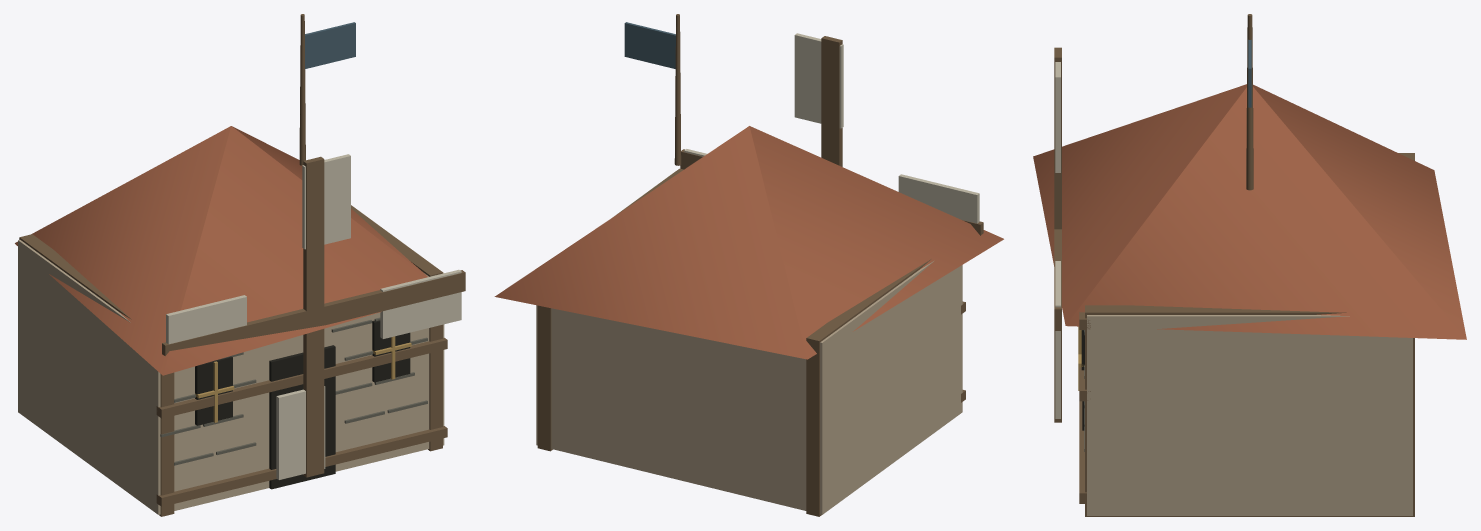
File: b-mill-castilian.glb
3 renders of one model, left to right at view 1: azimuth 30°, elevation 25°; view 2: azimuth 150°, elevation 25°; view 3: azimuth 270°, elevation 25°, orthographic. The views are drawn at different scales.
Visible parts, largest first — view 1: Structure, sail0, sail2, sail3, sail1; view 2: Structure, sail0, sail1; view 3: Structure, sail0, sail3, sail2.
Boxes of the visible parts, x1,y1,x2,y2 form: Structure: (15, 14, 447, 516); sail0: (302, 154, 350, 325); sail2: (276, 309, 325, 479); sail3: (312, 269, 465, 338); sail1: (162, 295, 322, 355); Structure: (494, 14, 1003, 516); sail0: (794, 33, 843, 166); sail1: (898, 174, 983, 235); Structure: (1033, 14, 1466, 516); sail0: (1054, 47, 1061, 229); sail3: (1054, 229, 1061, 361); sail2: (1054, 331, 1061, 422).
Size of the model in its own units: 4.53 by 5.33 by 4.53.
